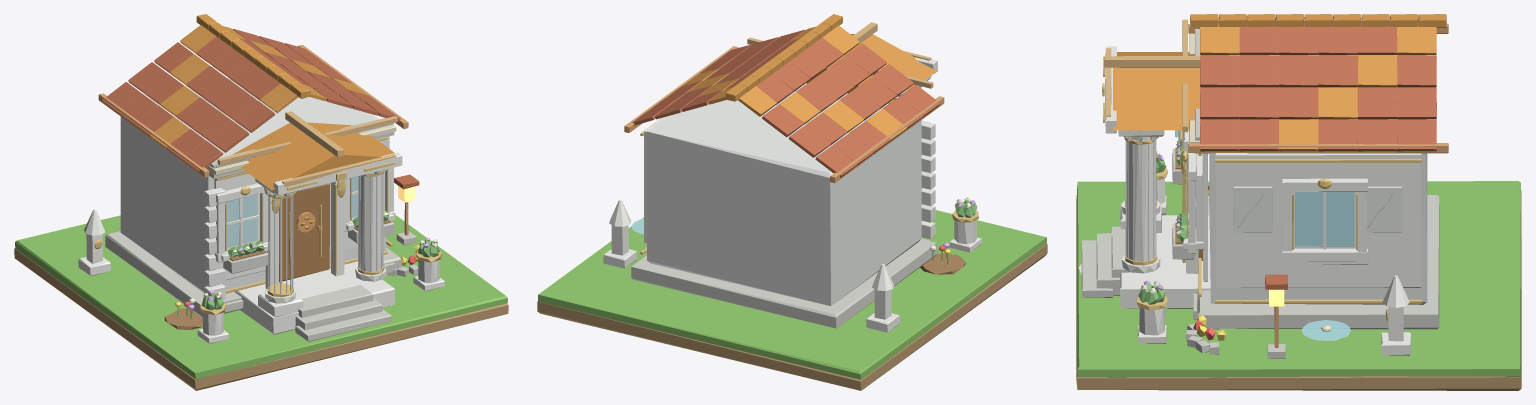
The model's file is villa_l01_active_LOD1.glb.
The picture shows the model from 3 angles, left to right: view 1: azimuth 30°, elevation 25°; view 2: azimuth 150°, elevation 25°; view 3: azimuth 270°, elevation 25°; orthographic projection. The views are drawn at different scales.
Visible parts, largest first — view 1: villa_grass_tile_villa_l01_active_v2_LOD1_tmp, villa_l01_active_v2_marble_core_villa_l01_active_v2_LOD1_tmp, villa_earth_tile_villa_l01_active_v2_LOD1_tmp, villa_l01_active_v2_portico_gable_roof_villa_l01_active_v2_L, villa_l01_active_v2_entry_door_villa_l01_active_v2_LOD1_tmp, villa_l01_active_v2_porch_slab_villa_l01_active_v2_LOD1_tmp, villa_l01_active_v2_base_stone_block_low_medium_foundation_v, villa_l01_active_v2_column_1_shaft_villa_l01_active_v2_LOD1_, villa_l01_active_v2_stairs_step_2_villa_l01_active_v2_LOD1_t, villa_l01_active_v2_front_window_-1_window_frame_villa_l01_a, villa_l01_active_v2_front_window_-1_window_pane_villa_l01_ac, villa_l01_active_v2_stairs_step_0_villa_l01_active_v2_LOD1_t (+42 smaller); view 2: villa_l01_active_v2_marble_core_villa_l01_active_v2_LOD1_tmp, villa_grass_tile_villa_l01_active_v2_LOD1_tmp, villa_l01_active_v2_base_stone_block_low_medium_foundation_v, villa_earth_tile_villa_l01_active_v2_LOD1_tmp, villa_l01_active_v2_portico_gable_roof_villa_l01_active_v2_L, villa_l01_active_v2_copper_eave_-1_villa_l01_active_v2_LOD1_, villa_l01_active_v2_tile_-1_01_05_villa_l01_active_v2_LOD1_t, villa_l01_active_v2_tile_-1_02_05_villa_l01_active_v2_LOD1_t, villa_l01_active_v2_west_bed_round_bed_soil_villa_l01_active, villa_l01_active_v2_tile_-1_03_05_villa_l01_active_v2_LOD1_t, villa_l01_active_v2_tile_-1_01_00_villa_l01_active_v2_LOD1_t, villa_l01_active_v2_tile_-1_01_03_villa_l01_active_v2_LOD1_t (+24 smaller); view 3: villa_grass_tile_villa_l01_active_v2_LOD1_tmp, villa_l01_active_v2_right_marble_cladding_villa_l01_active_v, villa_l01_active_v2_base_stone_block_low_medium_foundation_v, villa_earth_tile_villa_l01_active_v2_LOD1_tmp, villa_l01_active_v2_portico_gable_roof_villa_l01_active_v2_L, villa_l01_active_v2_marble_core_villa_l01_active_v2_LOD1_tmp, villa_l01_active_v2_porch_slab_villa_l01_active_v2_LOD1_tmp, villa_l01_active_v2_column_1_shaft_villa_l01_active_v2_LOD1_, villa_l01_active_v2_side_window_glass_villa_l01_active_v2_LO, villa_l01_active_v2_right_veined_panel_-0.34_slab_villa_l01_, villa_l01_active_v2_copper_eave_1_villa_l01_active_v2_LOD1_t, villa_l01_active_v2_right_veined_panel_0.61_slab_villa_l01_a (+47 smaller).
Part boxes in pixels (bbox=[...]): villa_grass_tile_villa_l01_active_v2_LOD1_tmp: bbox=[15, 215, 507, 379]; villa_l01_active_v2_marble_core_villa_l01_active_v2_LOD1_tmp: bbox=[120, 79, 386, 293]; villa_earth_tile_villa_l01_active_v2_LOD1_tmp: bbox=[14, 248, 508, 390]; villa_l01_active_v2_portico_gable_roof_villa_l01_active_v2_L: bbox=[232, 122, 394, 190]; villa_l01_active_v2_entry_door_villa_l01_active_v2_LOD1_tmp: bbox=[279, 183, 329, 281]; villa_l01_active_v2_porch_slab_villa_l01_active_v2_LOD1_tmp: bbox=[234, 261, 394, 334]; villa_l01_active_v2_base_stone_block_low_medium_foundation_v: bbox=[105, 231, 401, 317]; villa_l01_active_v2_column_1_shaft_villa_l01_active_v2_LOD1_: bbox=[358, 172, 382, 271]; villa_l01_active_v2_stairs_step_2_villa_l01_active_v2_LOD1_t: bbox=[298, 285, 373, 317]; villa_l01_active_v2_front_window_-1_window_frame_villa_l01_a: bbox=[225, 193, 259, 249]; villa_l01_active_v2_front_window_-1_window_pane_villa_l01_ac: bbox=[225, 194, 257, 247]; villa_l01_active_v2_stairs_step_0_villa_l01_active_v2_LOD1_t: bbox=[295, 309, 391, 341]; villa_l01_active_v2_marble_core_villa_l01_active_v2_LOD1_tmp: bbox=[647, 83, 921, 305]; villa_grass_tile_villa_l01_active_v2_LOD1_tmp: bbox=[538, 210, 1046, 380]; villa_l01_active_v2_base_stone_block_low_medium_foundation_v: bbox=[631, 239, 937, 328]; villa_earth_tile_villa_l01_active_v2_LOD1_tmp: bbox=[537, 244, 1047, 390]; villa_l01_active_v2_portico_gable_roof_villa_l01_active_v2_L: bbox=[806, 34, 937, 103]; villa_l01_active_v2_copper_eave_-1_villa_l01_active_v2_LOD1_: bbox=[830, 96, 944, 183]; villa_l01_active_v2_tile_-1_01_05_villa_l01_active_v2_LOD1_t: bbox=[762, 104, 804, 137]; villa_l01_active_v2_tile_-1_02_05_villa_l01_active_v2_LOD1_t: bbox=[789, 124, 830, 157]; villa_l01_active_v2_west_bed_round_bed_soil_villa_l01_active: bbox=[920, 253, 965, 274]; villa_l01_active_v2_tile_-1_03_05_villa_l01_active_v2_LOD1_t: bbox=[815, 145, 857, 177]; villa_l01_active_v2_tile_-1_01_00_villa_l01_active_v2_LOD1_t: bbox=[846, 43, 886, 76]; villa_l01_active_v2_tile_-1_01_03_villa_l01_active_v2_LOD1_t: bbox=[796, 80, 837, 112]; villa_grass_tile_villa_l01_active_v2_LOD1_tmp: bbox=[1077, 181, 1520, 377]; villa_l01_active_v2_right_marble_cladding_villa_l01_active_v: bbox=[1215, 153, 1421, 287]; villa_l01_active_v2_base_stone_block_low_medium_foundation_v: bbox=[1197, 195, 1439, 329]; villa_earth_tile_villa_l01_active_v2_LOD1_tmp: bbox=[1076, 190, 1521, 390]; villa_l01_active_v2_portico_gable_roof_villa_l01_active_v2_L: bbox=[1113, 52, 1200, 130]; villa_l01_active_v2_marble_core_villa_l01_active_v2_LOD1_tmp: bbox=[1209, 55, 1427, 304]; villa_l01_active_v2_porch_slab_villa_l01_active_v2_LOD1_tmp: bbox=[1120, 215, 1210, 308]; villa_l01_active_v2_column_1_shaft_villa_l01_active_v2_LOD1_: bbox=[1126, 136, 1155, 261]; villa_l01_active_v2_side_window_glass_villa_l01_active_v2_LO: bbox=[1295, 191, 1354, 246]; villa_l01_active_v2_right_veined_panel_-0.34_slab_villa_l01_: bbox=[1233, 186, 1272, 232]; villa_l01_active_v2_copper_eave_1_villa_l01_active_v2_LOD1_t: bbox=[1188, 143, 1448, 153]; villa_l01_active_v2_right_veined_panel_0.61_slab_villa_l01_a: bbox=[1367, 186, 1401, 232].
Size of what is drawn, in the model's own units: 3.57 by 2.5 by 3.58.
